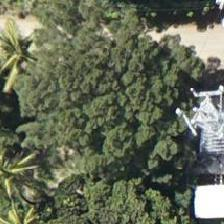Kelapa_Sawit: (0, 8, 55, 98), (0, 133, 50, 223)
